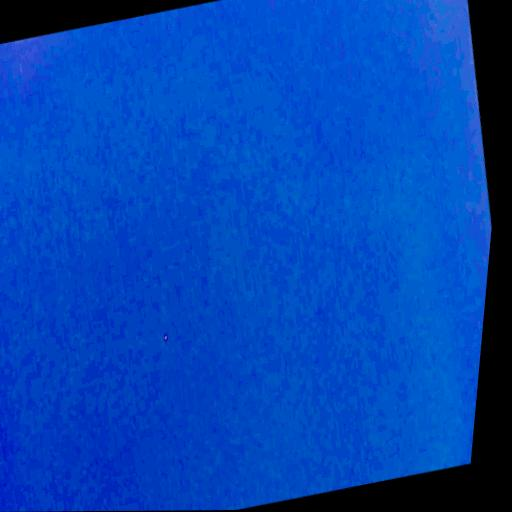drones: (159, 329, 172, 348)
